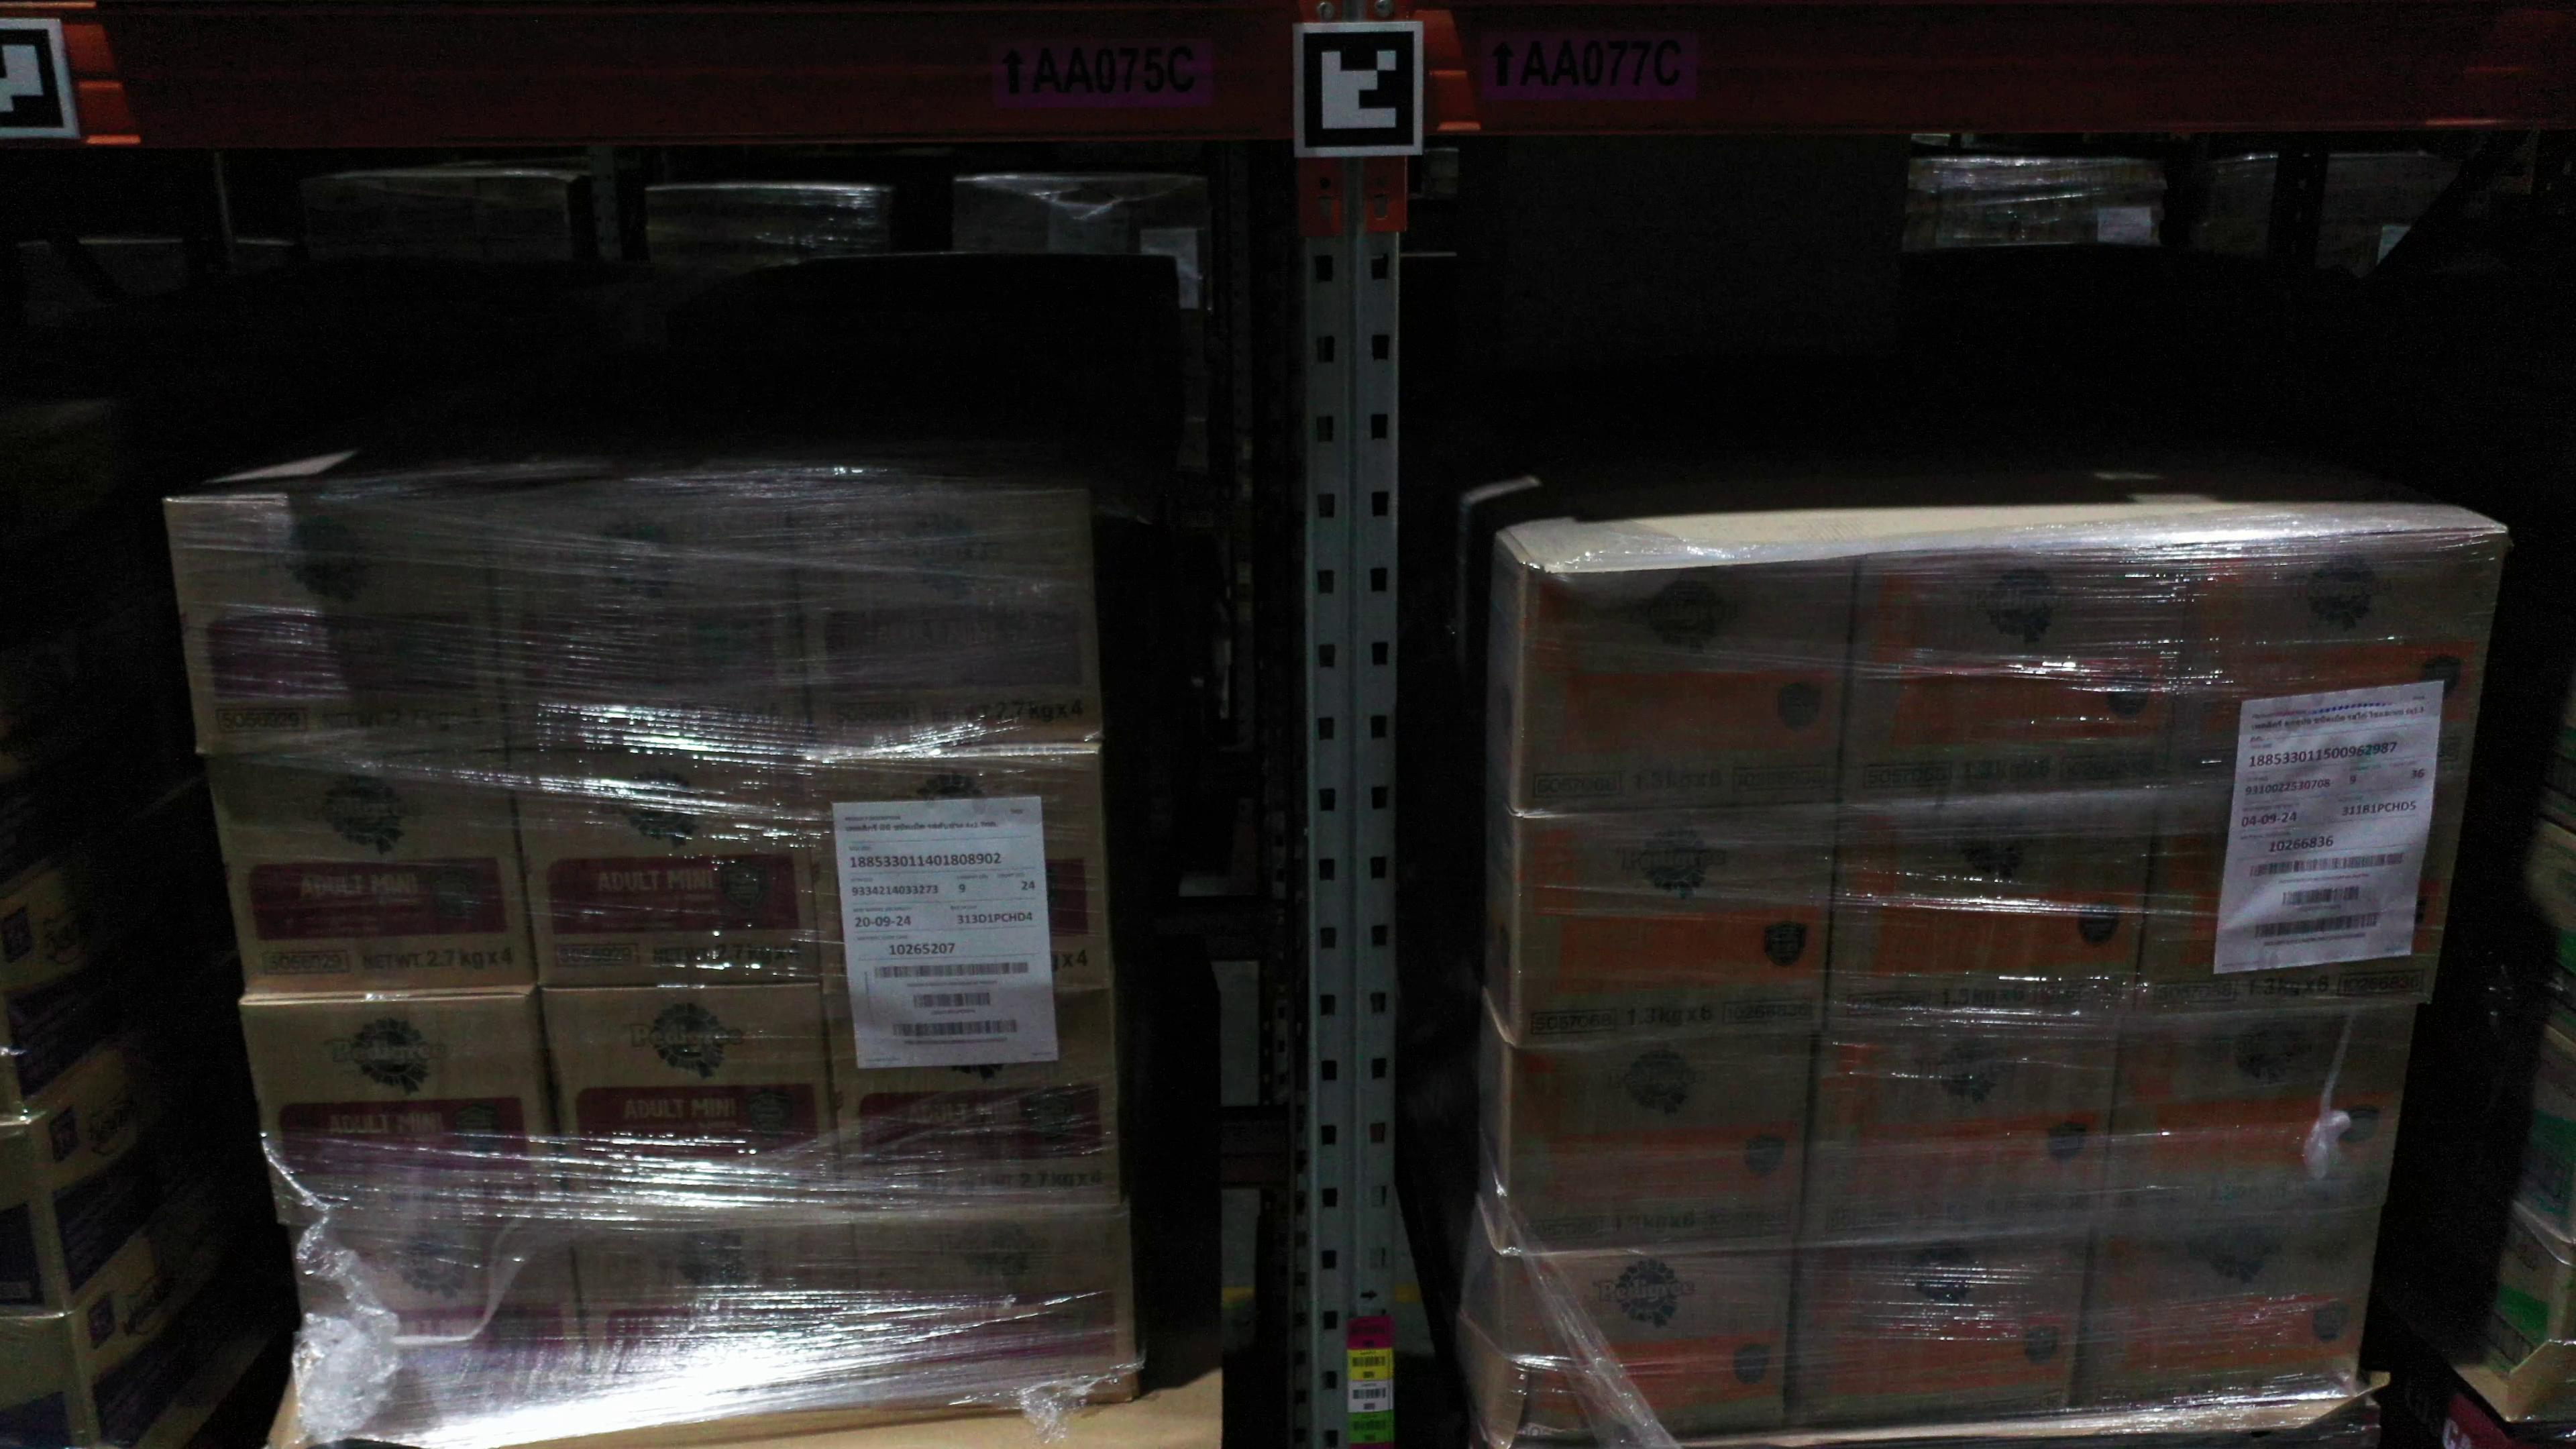-: (168, 494, 510, 755), (1518, 557, 1861, 812), (481, 492, 814, 752), (2167, 527, 2509, 780), (1838, 550, 2189, 796), (786, 490, 1102, 752), (2137, 771, 2472, 1017), (209, 748, 540, 991), (1516, 800, 1840, 1044), (1829, 787, 2158, 1026), (237, 994, 570, 1230), (798, 747, 1113, 991), (508, 747, 824, 985), (2104, 998, 2422, 1226), (541, 985, 847, 1221), (1799, 1023, 2121, 1246), (828, 984, 1127, 1219), (1502, 1028, 1821, 1247), (2082, 1205, 2380, 1405), (295, 1228, 600, 1421), (1785, 1237, 2093, 1426), (575, 1221, 867, 1415), (1499, 1254, 1796, 1438), (853, 1207, 1132, 1399), (0, 1311, 108, 1449), (0, 1120, 67, 1323)
